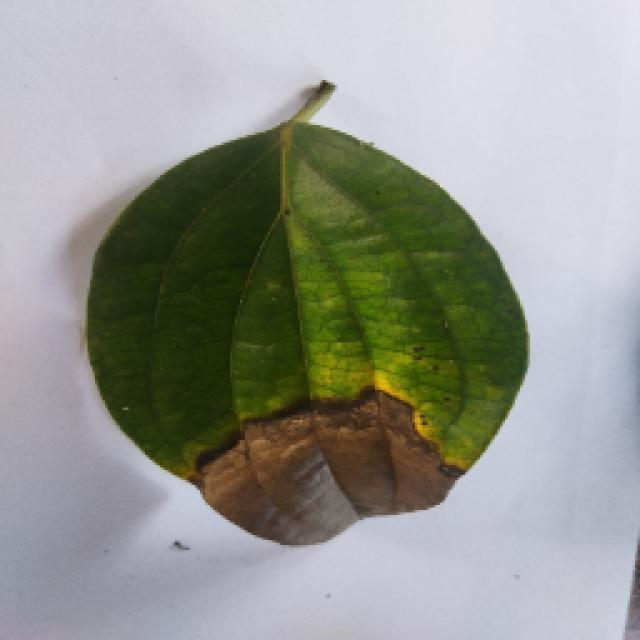footrot: (72, 88, 538, 548)
